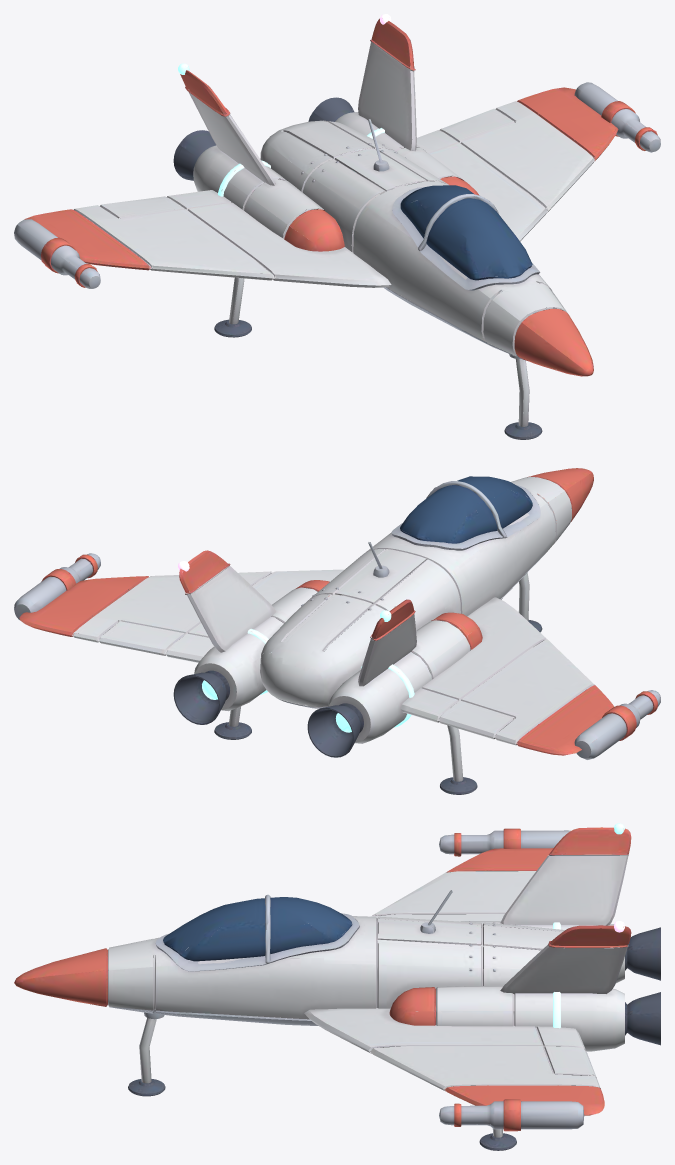
File: caza_espacial.glb
3 renders of one model, top to bottom at view 1: azimuth 30°, elevation 25°; view 2: azimuth 150°, elevation 25°; view 3: azimuth 270°, elevation 25°, orthographic.
Parts seen in each view (by area): view 1: space-fighter_body; view 2: space-fighter_body; view 3: space-fighter_body.
Part boxes in pixels (x1=…): space-fighter_body: x1=14, y1=14, x2=660, y2=439; space-fighter_body: x1=14, y1=468, x2=660, y2=794; space-fighter_body: x1=14, y1=823, x2=660, y2=1150.
Size of the model in its own units: 8.61 by 3.07 by 8.28.
4 materials, 1 textured.
